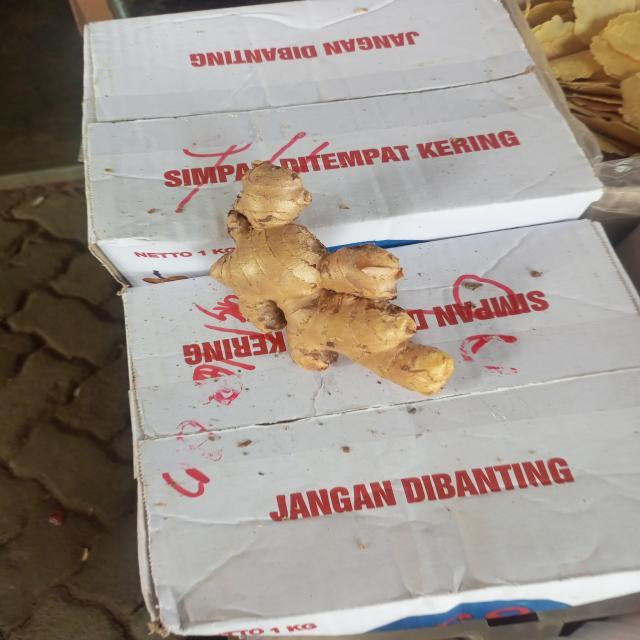ginger: (223, 166, 451, 390)
